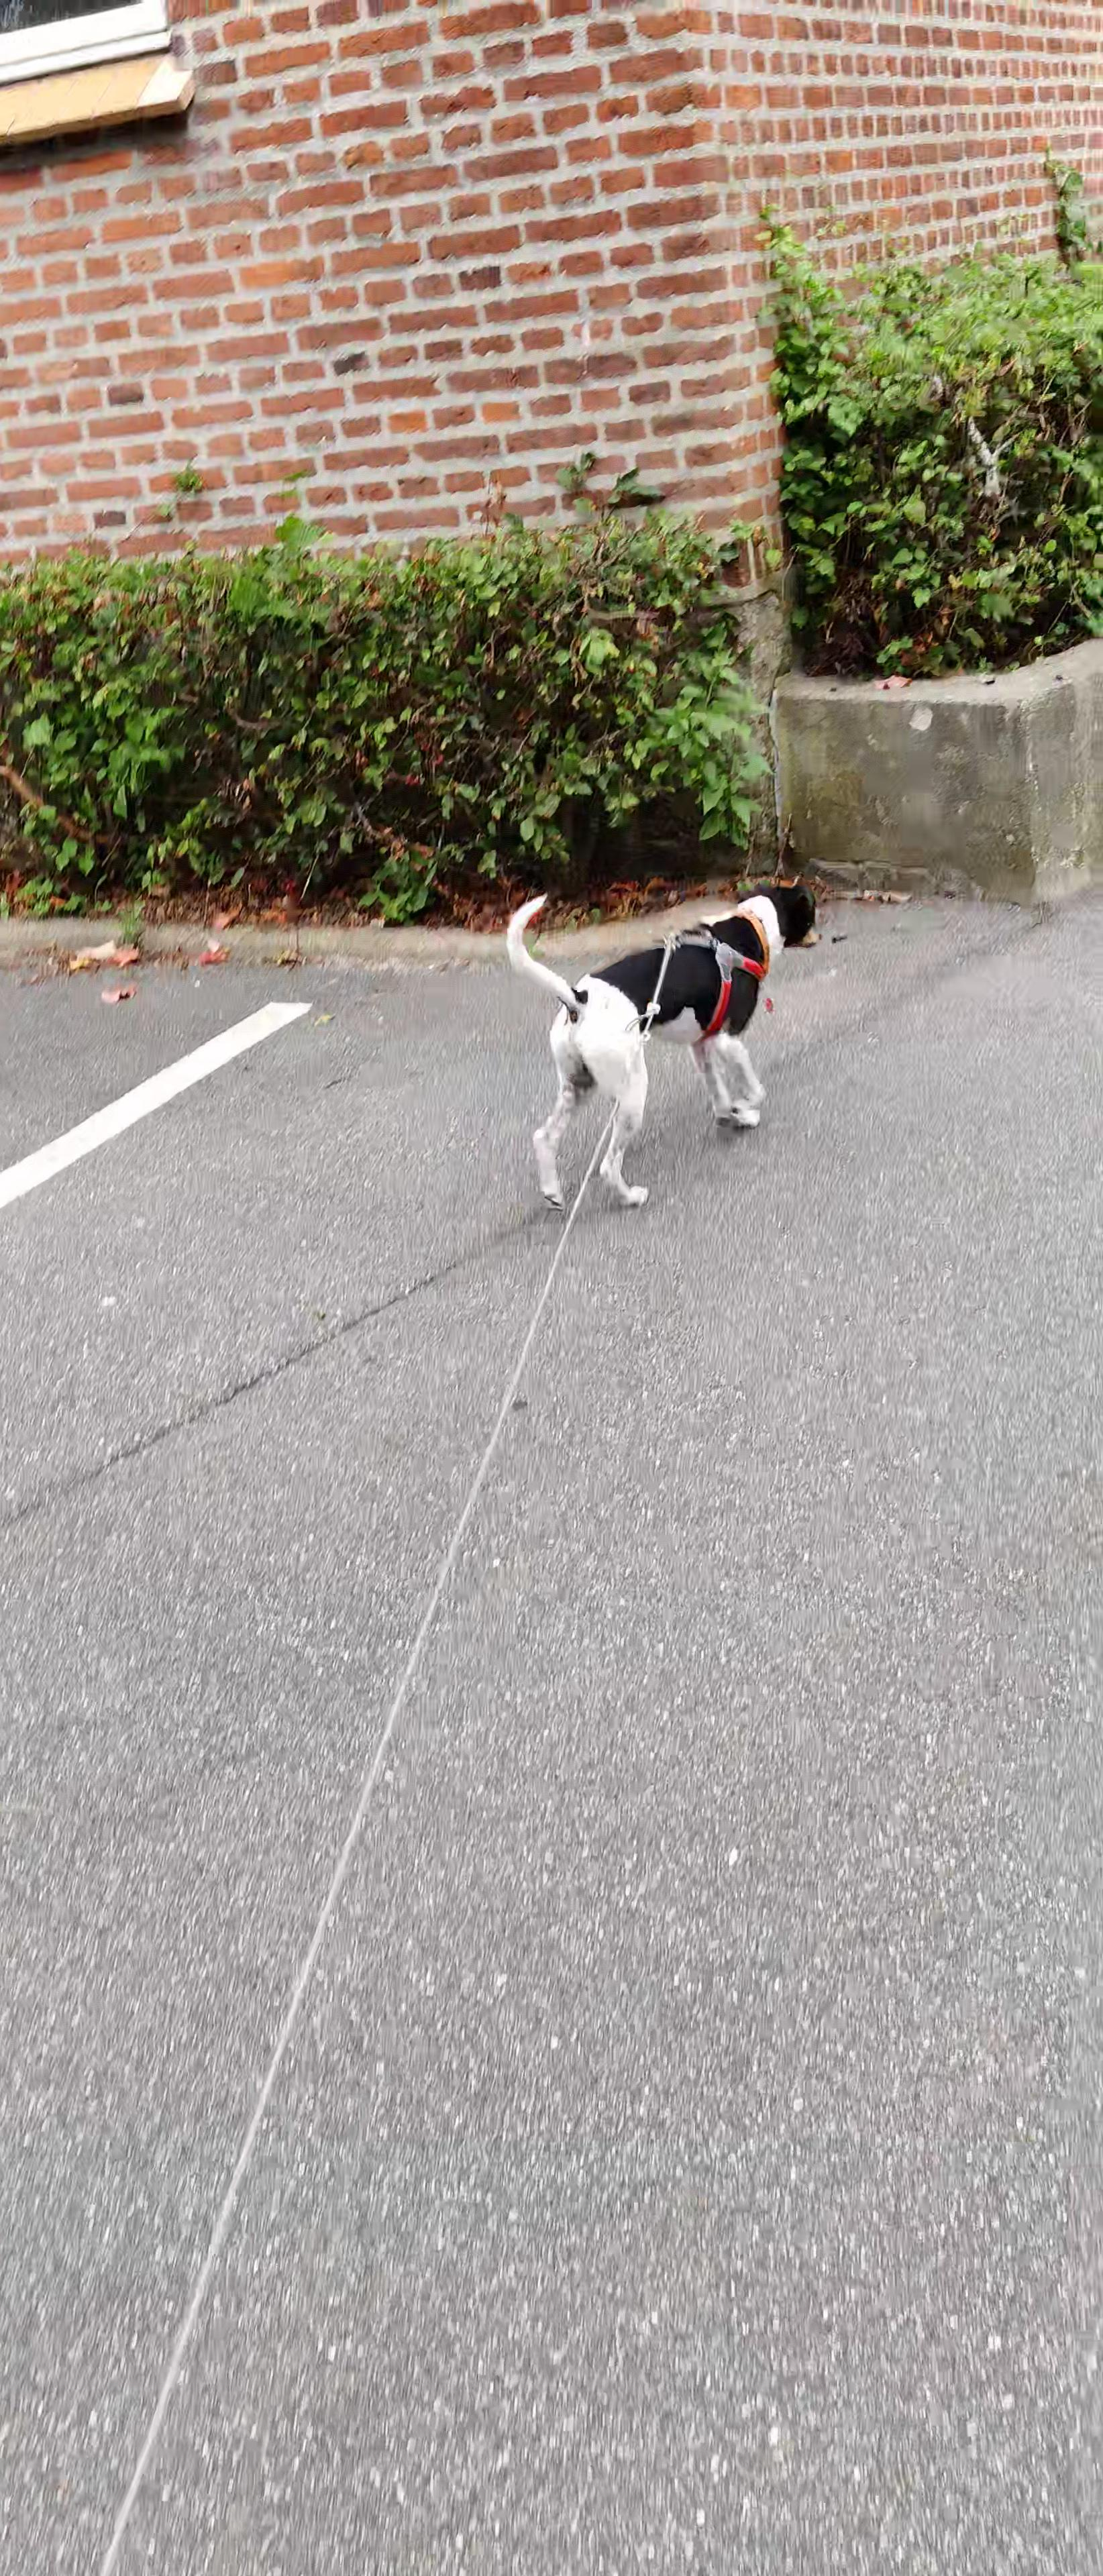Dog: (470, 853, 845, 1229)
